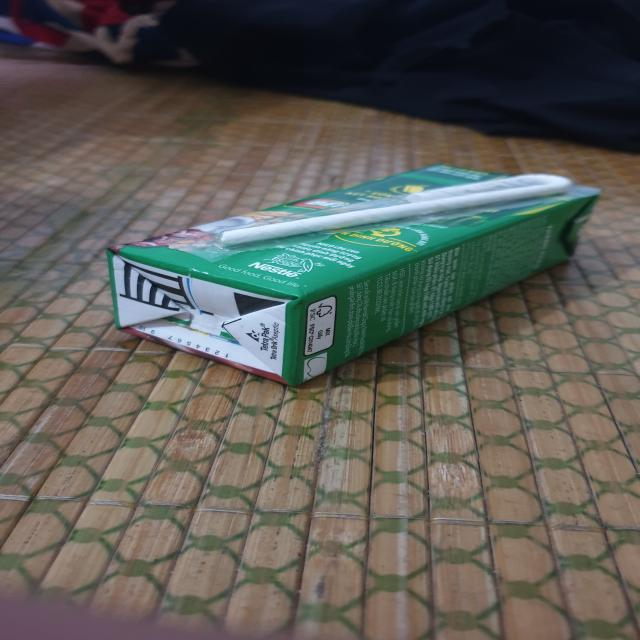Milo: (102, 164, 607, 390)
